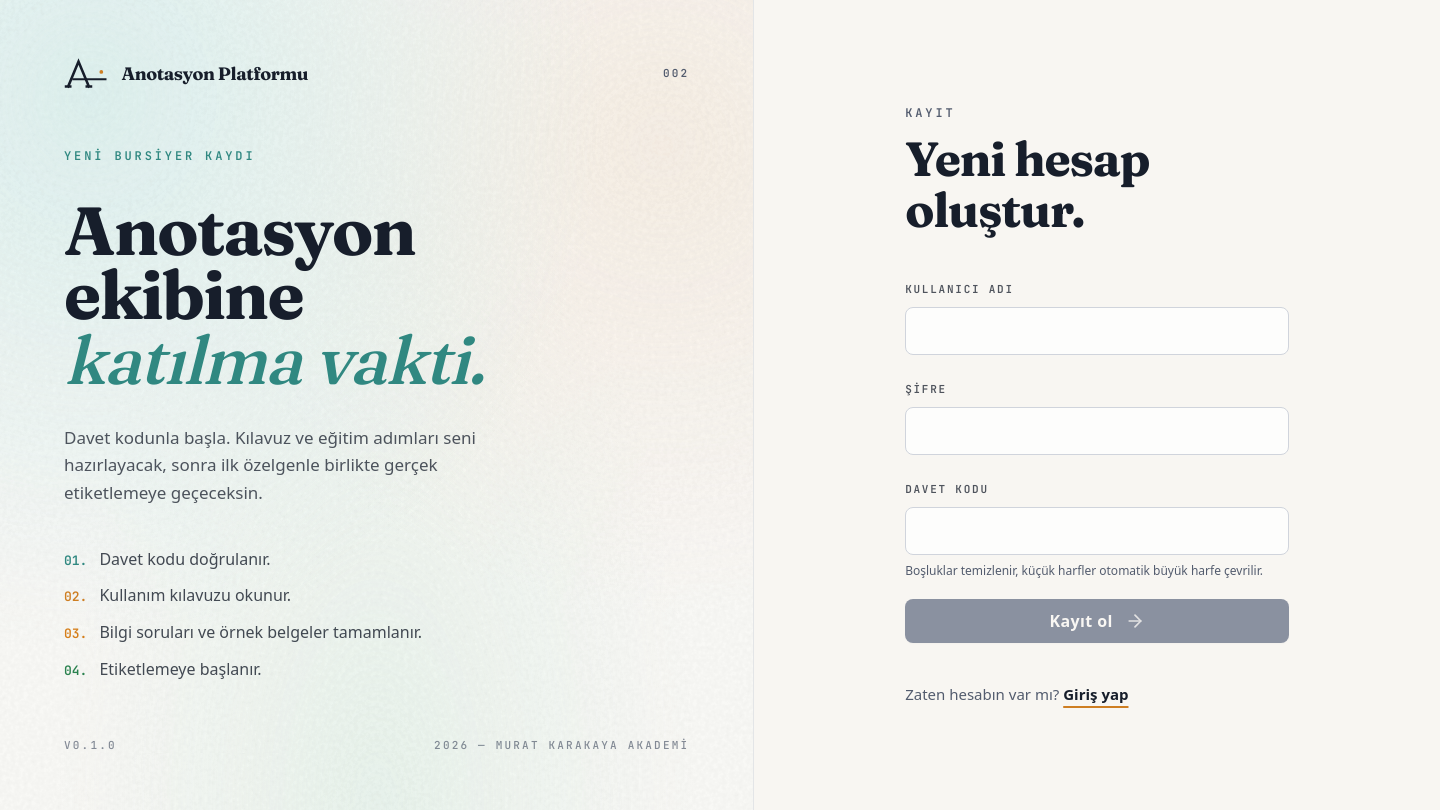
Scenario: Register route › on 403 invalid invite: shows error
Type "newone" into the field labelled "Kullanıcı adı" at (1097, 331), box [905, 307, 1289, 355]
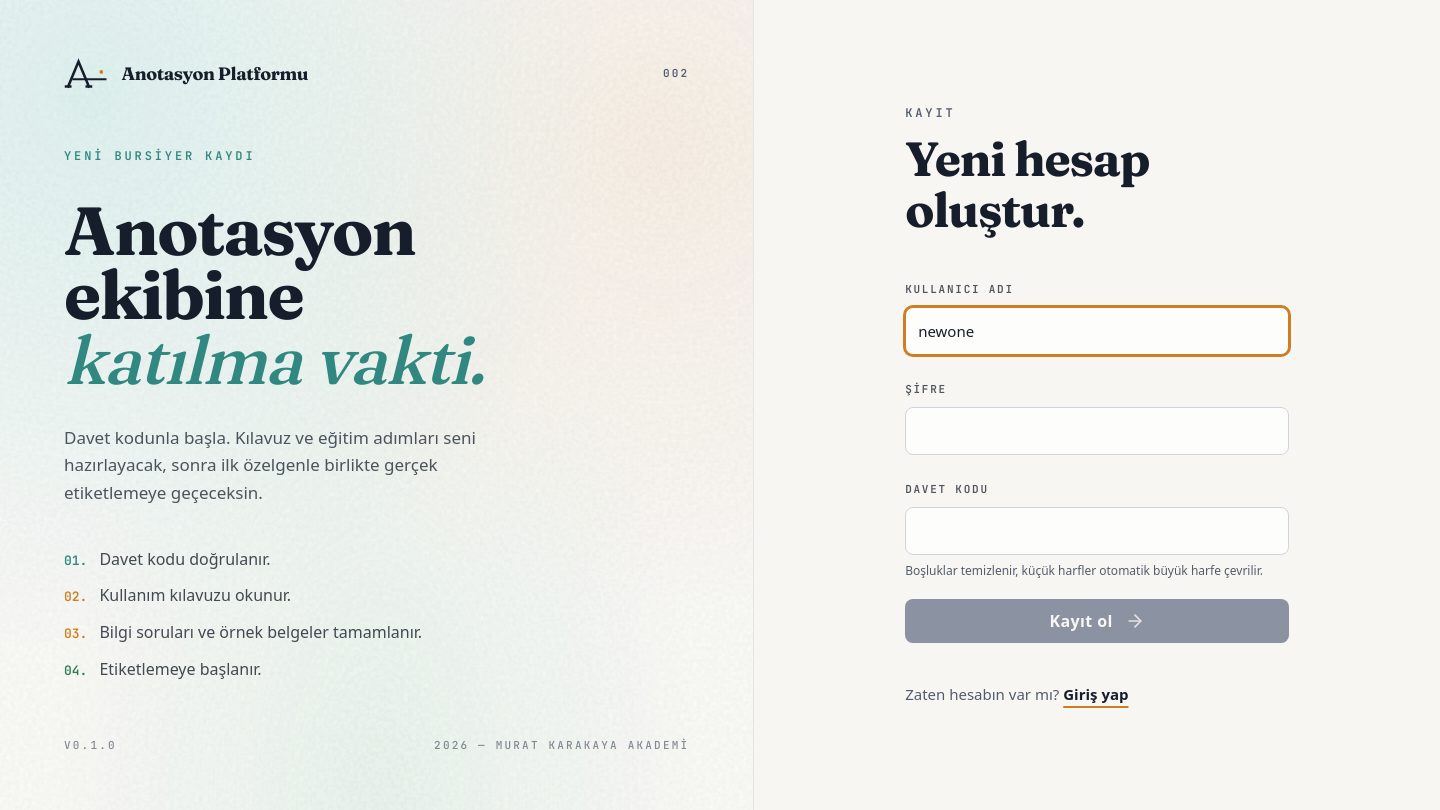
Type "StrongPw1!" into the password field labelled "Şifre" at (1097, 431), box [905, 407, 1289, 455]
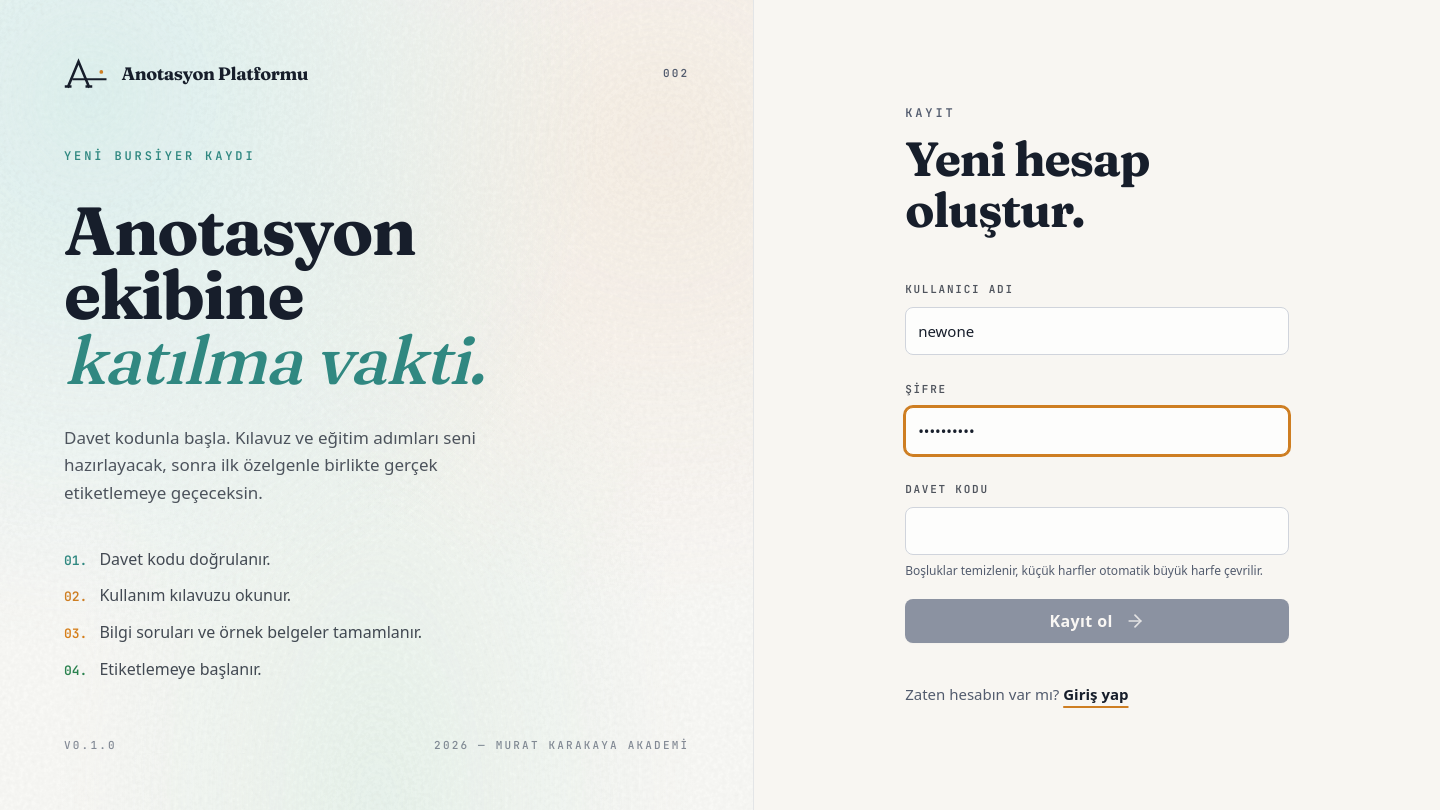
Type "WRONG" into the field labelled "Davet kodu" at (1097, 531), box [905, 507, 1289, 555]
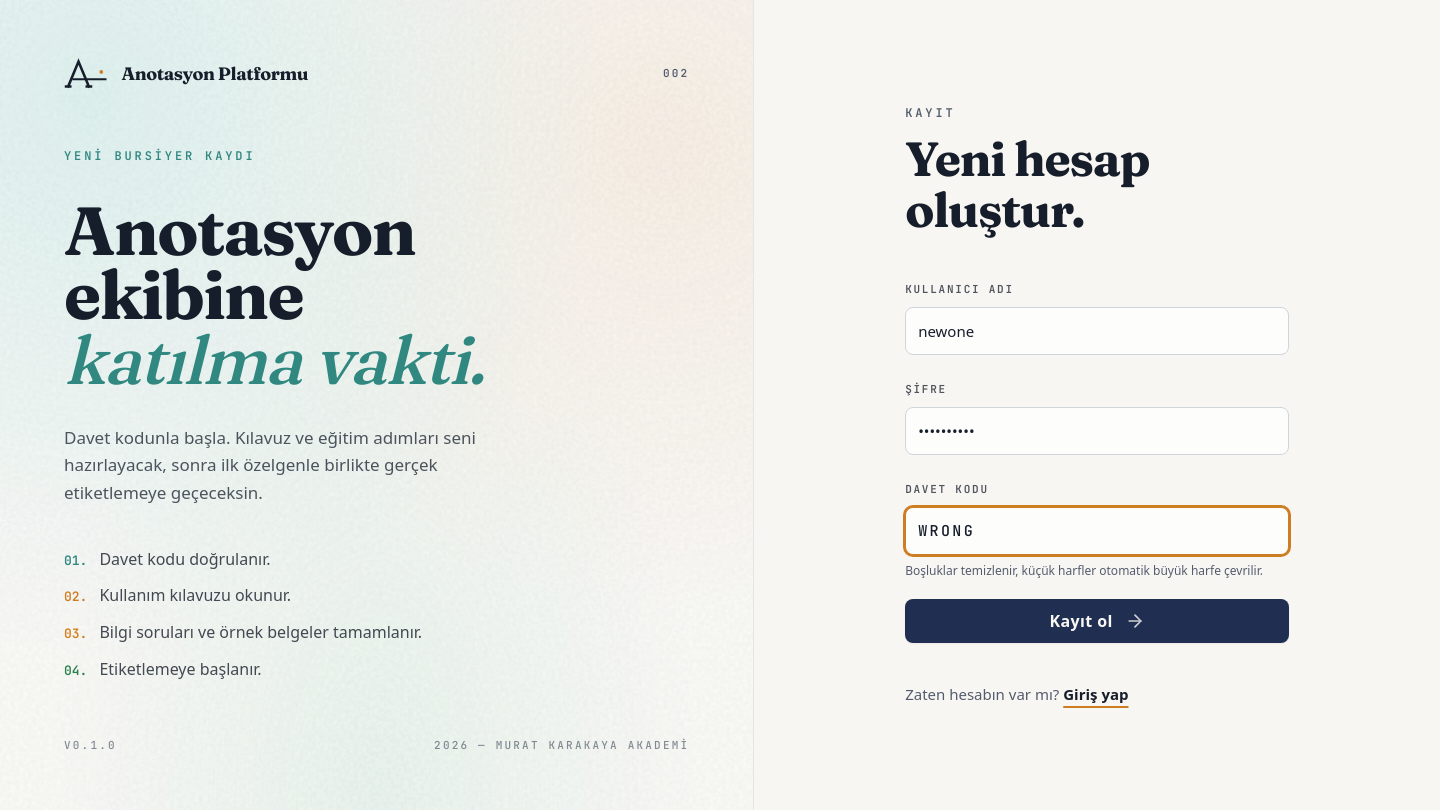
Click the button "Kayıt ol" at (1097, 621), box [905, 599, 1289, 643]
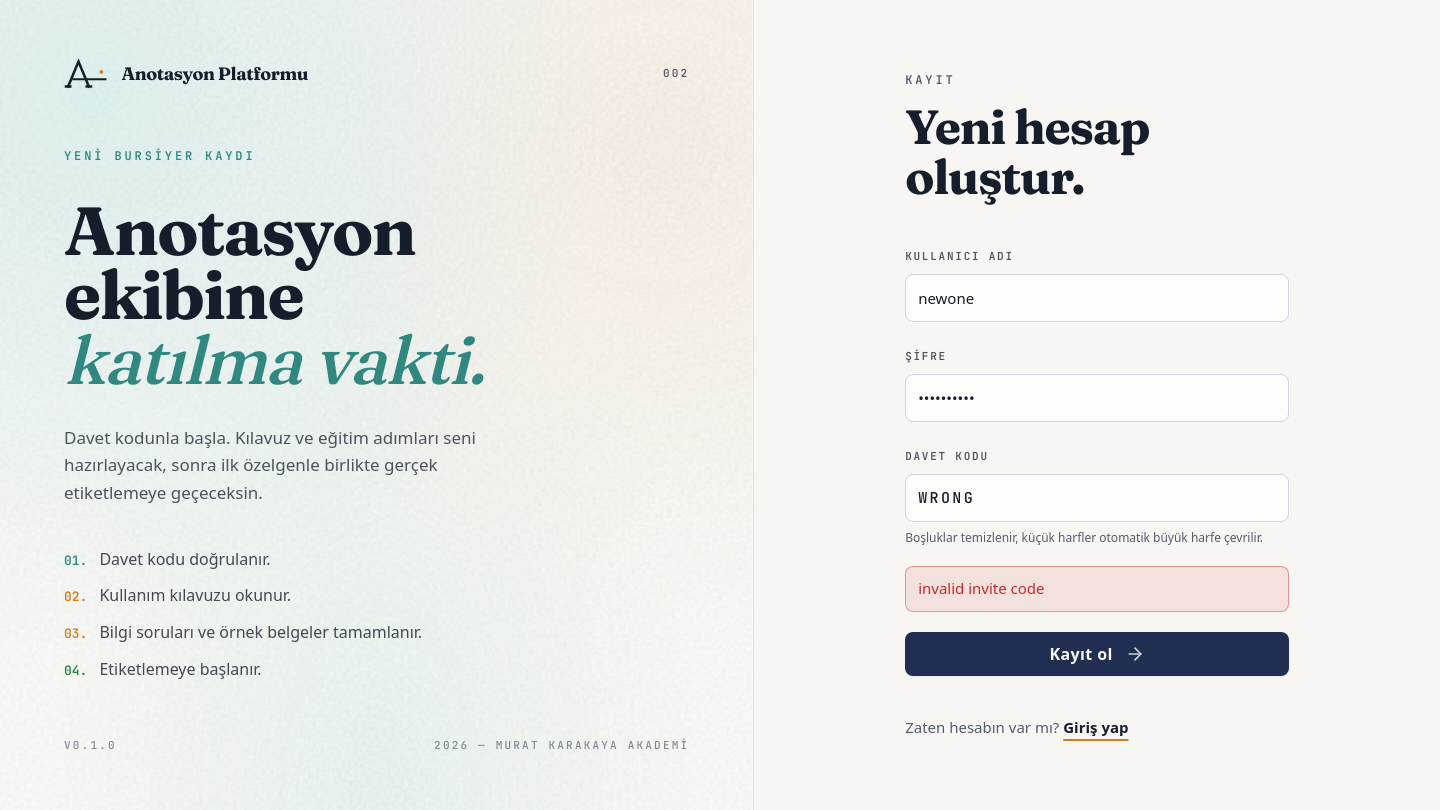
Expected: the text "invalid invite code" is shown, [905, 566, 1289, 612]
